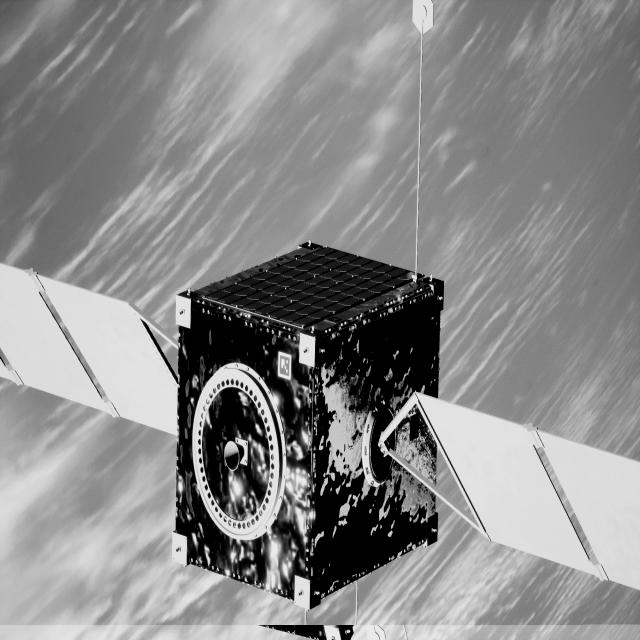medium_debris: (0, 243, 640, 609)
